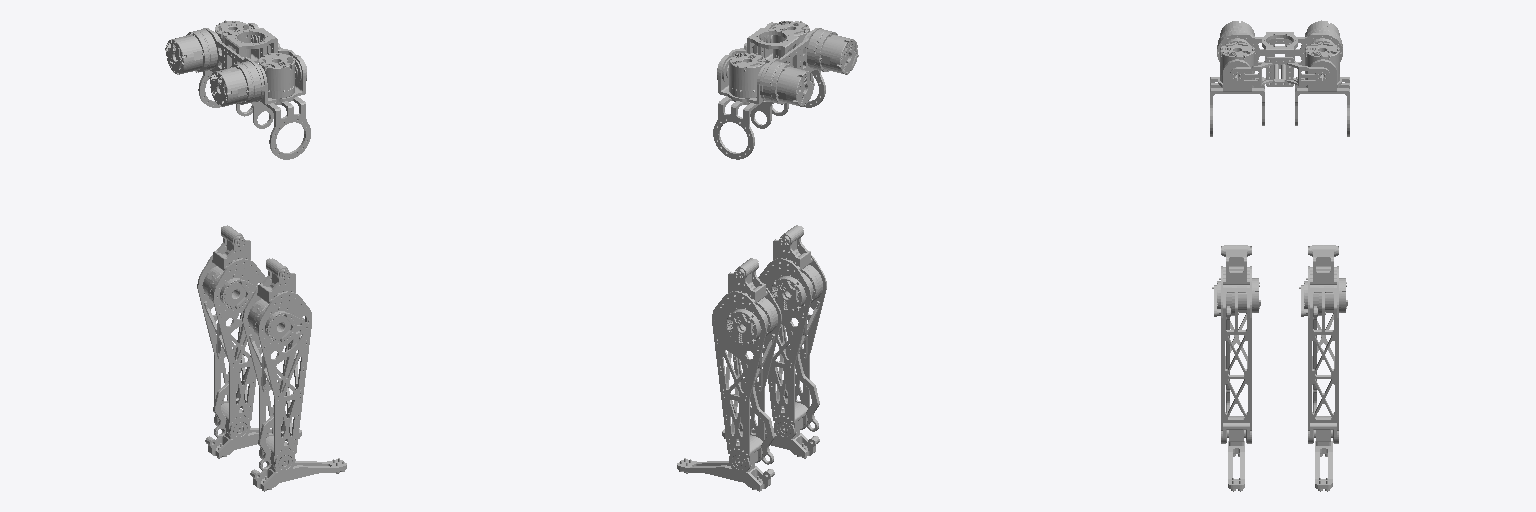
URDF robot description (bip4_des):
<?xml version="1.0" encoding="utf-8"?>
<!-- This URDF was automatically created by SolidWorks to URDF Exporter! Originally created by [author] ([email redacted]) 
     Commit Version: 1.6.0-4-g7f85cfe  Build Version: 1.6.7995.38578
     For more information, please see http://wiki.ros.org/sw_urdf_exporter -->
<robot
  name="bip4_des">
  <mujoco>
    <compiler
        meshdir="meshes/"
        balanceinertia="true"
        discardvisual="false" />
  </mujoco>
  <link
    name="base_link">
    <inertial>
      <origin
        xyz="-0.066232 0.00036919 2.7147E-06"
        rpy="0 0 0" />
      <mass
        value="5.5946" />
      <inertia
        ixx="0.0047064"
        ixy="-1.6682E-05"
        ixz="1.0516E-06"
        iyy="0.0053372"
        iyz="-3.4671E-06"
        izz="0.0046558" />
    </inertial>
    <visual>
      <origin
        xyz="0 0 0"
        rpy="0 0 0" />
      <geometry>
        <mesh
          filename="package://bip4_des/meshes/base_link.STL" />
      </geometry>
      <material
        name="">
        <color
          rgba="0.75294 0.75294 0.75294 1" />
      </material>
    </visual>
    <collision>
      <origin
        xyz="0 0 0"
        rpy="0 0 0" />
      <geometry>
        <mesh
          filename="package://bip4_des/meshes/base_link.STL" />
      </geometry>
    </collision>
  </link>
  <link
    name="l_hip_roll_Link">
    <inertial>
      <origin
        xyz="0.007702 8.0599E-05 -0.0041394"
        rpy="0 0 0" />
      <mass
        value="1.8362" />
      <inertia
        ixx="0.0013515"
        ixy="-1.3161E-06"
        ixz="7.5975E-07"
        iyy="0.0014774"
        iyz="-6.5562E-06"
        izz="0.0013748" />
    </inertial>
    <visual>
      <origin
        xyz="0 0 0"
        rpy="0 0 0" />
      <geometry>
        <mesh
          filename="package://bip4_des/meshes/l_hip_roll_Link.STL" />
      </geometry>
      <material
        name="">
        <color
          rgba="0.75294 0.75294 0.75294 1" />
      </material>
    </visual>
    <collision>
      <origin
        xyz="0 0 0"
        rpy="0 0 0" />
      <geometry>
        <mesh
          filename="package://bip4_des/meshes/l_hip_roll_Link.STL" />
      </geometry>
    </collision>
  </link>
  <joint
    name="J_hip_l_roll"
    type="revolute">
    <origin
      xyz="0 0.085 0"
      rpy="0 0 0" />
    <parent
      link="base_link" />
    <child
      link="l_hip_roll_Link" />
    <axis
      xyz="1 0 0" />
    <limit
      lower="-0.05"
      upper="1.0"
      effort="0"
      velocity="0" />
  </joint>
  <link
    name="l_hip_yaw_Link">
    <inertial>
      <origin
        xyz="-4.3368E-18 0.0047249 -0.032157"
        rpy="0 0 0" />
      <mass
        value="0.18597" />
      <inertia
        ixx="0.00054536"
        ixy="2.2098E-19"
        ixz="-1.2488E-19"
        iyy="0.00028776"
        iyz="5.5703E-05"
        izz="0.00045609" />
    </inertial>
    <visual>
      <origin
        xyz="0 0 0"
        rpy="0 0 0" />
      <geometry>
        <mesh
          filename="package://bip4_des/meshes/l_hip_yaw_Link.STL" />
      </geometry>
      <material
        name="">
        <color
          rgba="0.75294 0.75294 0.75294 1" />
      </material>
    </visual>
    <collision>
      <origin
        xyz="0 0 0"
        rpy="0 0 0" />
      <geometry>
        <mesh
          filename="package://bip4_des/meshes/l_hip_yaw_Link.STL" />
      </geometry>
    </collision>
  </link>
  <joint
    name="J_hip_l_yaw"
    type="revolute">
    <origin
      xyz="0.00755 0 -0.041"
      rpy="0 0 0" />
    <parent
      link="l_hip_roll_Link" />
    <child
      link="l_hip_yaw_Link" />
    <axis
      xyz="0 0 1" />
    <limit
      lower="-0.8"
      upper="0.8"
      effort="0"
      velocity="0" />
  </joint>
  <link
    name="l_hip_pitch_Link">
    <inertial>
      <origin
        xyz="0.00016671 0.0072394 -0.066453"
        rpy="0 0 0" />
      <mass
        value="10.605" />
      <inertia
        ixx="0.013974"
        ixy="-4.6354E-06"
        ixz="3.5128E-06"
        iyy="0.017107"
        iyz="-4.3453E-06"
        izz="0.011931" />
    </inertial>
    <visual>
      <origin
        xyz="0 0 0"
        rpy="0 0 0" />
      <geometry>
        <mesh
          filename="package://bip4_des/meshes/l_hip_pitch_Link.STL" />
      </geometry>
      <material
        name="">
        <color
          rgba="0.75294 0.75294 0.75294 1" />
      </material>
    </visual>
    <collision>
      <origin
        xyz="0 0 0"
        rpy="0 0 0" />
      <geometry>
        <mesh
          filename="package://bip4_des/meshes/l_hip_pitch_Link.STL" />
      </geometry>
    </collision>
  </link>
  <joint
    name="J_hip_l_pitch"
    type="revolute">
    <origin
      xyz="0 0 -0.071"
      rpy="0 0 0" />
    <parent
      link="l_hip_yaw_Link" />
    <child
      link="l_hip_pitch_Link" />
    <axis
      xyz="0 1 0" />
    <limit
      lower="-1.5"
      upper="1.5"
      effort="0"
      velocity="0" />
  </joint>
  <link
    name="l_knee_Link">
    <inertial>
      <origin
        xyz="-0.0080643 0.0026112 -0.13064"
        rpy="0 0 0" />
      <mass
        value="3.4252" />
      <inertia
        ixx="0.0068071"
        ixy="4.0329E-06"
        ixz="-0.00032143"
        iyy="0.0067824"
        iyz="6.7283E-06"
        izz="0.0025764" />
    </inertial>
    <visual>
      <origin
        xyz="0 0 0"
        rpy="0 0 0" />
      <geometry>
        <mesh
          filename="package://bip4_des/meshes/l_knee_Link.STL" />
      </geometry>
      <material
        name="">
        <color
          rgba="0.75294 0.75294 0.75294 1" />
      </material>
    </visual>
    <collision>
      <origin
        xyz="0 0 0"
        rpy="0 0 0" />
      <geometry>
        <mesh
          filename="package://bip4_des/meshes/l_knee_Link.STL" />
      </geometry>
    </collision>
  </link>
  <joint
    name="J_knee_l_pitch"
    type="revolute">
    <origin
      xyz="0 0 -0.3"
      rpy="0 0 0" />
    <parent
      link="l_hip_pitch_Link" />
    <child
      link="l_knee_Link" />
    <axis
      xyz="0 1 0" />
    <limit
      lower="-0.1"
      upper="1.7"
      effort="0"
      velocity="0" />
  </joint>
  <link
    name="l_ankle_Link">
    <inertial>
      <origin
        xyz="0.025627 0.002347 -0.031389"
        rpy="0 0 0" />
      <mass
        value="0.3255" />
      <inertia
        ixx="7.343E-05"
        ixy="-1.3319E-06"
        ixz="4.7624E-05"
        iyy="0.00067827"
        iyz="1.9233E-07"
        izz="0.00069239" />
    </inertial>
    <visual>
      <origin
        xyz="0 0 0"
        rpy="0 0 0" />
      <geometry>
        <mesh
          filename="package://bip4_des/meshes/l_ankle_Link.STL" />
      </geometry>
      <material
        name="">
        <color
          rgba="0.75294 0.75294 0.75294 1" />
      </material>
    </visual>
    <collision>
      <origin
        xyz="0 0 0"
        rpy="0 0 0" />
      <geometry>
        <mesh
          filename="package://bip4_des/meshes/l_ankle_Link.STL" />
      </geometry>
    </collision>
  </link>
  <joint
    name="J_ankle_l_pitch"
    type="revolute">
    <origin
      xyz="0 0 -0.4"
      rpy="0 0 0" />
    <parent
      link="l_knee_Link" />
    <child
      link="l_ankle_Link" />
    <axis
      xyz="0 1 0" />
    <limit
      lower="-0.6"
      upper="0.6"
      effort="0"
      velocity="0" />
  </joint>
  <link
    name="r_hip_roll_Link">
    <inertial>
      <origin
        xyz="0.007702 8.0599E-05 -0.0041394"
        rpy="0 0 0" />
      <mass
        value="1.8362" />
      <inertia
        ixx="0.0013515"
        ixy="-1.3161E-06"
        ixz="7.5975E-07"
        iyy="0.0014774"
        iyz="-6.5562E-06"
        izz="0.0013748" />
    </inertial>
    <visual>
      <origin
        xyz="0 0 0"
        rpy="0 0 0" />
      <geometry>
        <mesh
          filename="package://bip4_des/meshes/r_hip_roll_Link.STL" />
      </geometry>
      <material
        name="">
        <color
          rgba="0.75294 0.75294 0.75294 1" />
      </material>
    </visual>
    <collision>
      <origin
        xyz="0 0 0"
        rpy="0 0 0" />
      <geometry>
        <mesh
          filename="package://bip4_des/meshes/r_hip_roll_Link.STL" />
      </geometry>
    </collision>
  </link>
  <joint
    name="J_hip_r_roll"
    type="revolute">
    <origin
      xyz="0 -0.085 0"
      rpy="0 0 0" />
    <parent
      link="base_link" />
    <child
      link="r_hip_roll_Link" />
    <axis
      xyz="1 0 0" />
    <limit
      lower="-1.0"
      upper="0.05"
      effort="0"
      velocity="0" />
  </joint>
  <link
    name="r_hip_yaw_Link">
    <inertial>
      <origin
        xyz="2.6888E-17 -0.0047249 -0.032157"
        rpy="0 0 0" />
      <mass
        value="0.18597" />
      <inertia
        ixx="0.00054536"
        ixy="1.1784E-19"
        ixz="1.7991E-21"
        iyy="0.00028776"
        iyz="-5.5703E-05"
        izz="0.00045609" />
    </inertial>
    <visual>
      <origin
        xyz="0 0 0"
        rpy="0 0 0" />
      <geometry>
        <mesh
          filename="package://bip4_des/meshes/r_hip_yaw_Link.STL" />
      </geometry>
      <material
        name="">
        <color
          rgba="0.75294 0.75294 0.75294 1" />
      </material>
    </visual>
    <collision>
      <origin
        xyz="0 0 0"
        rpy="0 0 0" />
      <geometry>
        <mesh
          filename="package://bip4_des/meshes/r_hip_yaw_Link.STL" />
      </geometry>
    </collision>
  </link>
  <joint
    name="J_hip_r_yaw"
    type="revolute">
    <origin
      xyz="0.00755 0 -0.041"
      rpy="0 0 0" />
    <parent
      link="r_hip_roll_Link" />
    <child
      link="r_hip_yaw_Link" />
    <axis
      xyz="0 0 1" />
    <limit
      lower="-0.8"
      upper="0.8"
      effort="0"
      velocity="0" />
  </joint>
  <link
    name="r_hip_pitch_Link">
    <inertial>
      <origin
        xyz="0.00017061 -0.0072483 -0.066599"
        rpy="0 0 0" />
      <mass
        value="10.607" />
      <inertia
        ixx="0.013994"
        ixy="-3.0476E-06"
        ixz="1.7407E-05"
        iyy="0.017107"
        iyz="-3.6747E-06"
        izz="0.011911" />
    </inertial>
    <visual>
      <origin
        xyz="0 0 0"
        rpy="0 0 0" />
      <geometry>
        <mesh
          filename="package://bip4_des/meshes/r_hip_pitch_Link.STL" />
      </geometry>
      <material
        name="">
        <color
          rgba="0.75294 0.75294 0.75294 1" />
      </material>
    </visual>
    <collision>
      <origin
        xyz="0 0 0"
        rpy="0 0 0" />
      <geometry>
        <mesh
          filename="package://bip4_des/meshes/r_hip_pitch_Link.STL" />
      </geometry>
    </collision>
  </link>
  <joint
    name="J_hip_r_pitch"
    type="revolute">
    <origin
      xyz="0 0 -0.071"
      rpy="0 0 0" />
    <parent
      link="r_hip_yaw_Link" />
    <child
      link="r_hip_pitch_Link" />
    <axis
      xyz="0 1 0" />
    <limit
      lower="-1.5"
      upper="1.5"
      effort="0"
      velocity="0" />
  </joint>
  <link
    name="r_knee_Link">
    <inertial>
      <origin
        xyz="-0.0080643 -0.0011888 -0.13064"
        rpy="0 0 0" />
      <mass
        value="3.4252" />
      <inertia
        ixx="0.0068071"
        ixy="4.0329E-06"
        ixz="-0.00032143"
        iyy="0.0067824"
        iyz="6.7283E-06"
        izz="0.0025764" />
    </inertial>
    <visual>
      <origin
        xyz="0 0 0"
        rpy="0 0 0" />
      <geometry>
        <mesh
          filename="package://bip4_des/meshes/r_knee_Link.STL" />
      </geometry>
      <material
        name="">
        <color
          rgba="0.75294 0.75294 0.75294 1" />
      </material>
    </visual>
    <collision>
      <origin
        xyz="0 0 0"
        rpy="0 0 0" />
      <geometry>
        <mesh
          filename="package://bip4_des/meshes/r_knee_Link.STL" />
      </geometry>
    </collision>
  </link>
  <joint
    name="J_knee_r_pitch"
    type="revolute">
    <origin
      xyz="0 0 -0.3"
      rpy="0 0 0" />
    <parent
      link="r_hip_pitch_Link" />
    <child
      link="r_knee_Link" />
    <axis
      xyz="0 1 0" />
    <limit
      lower="-0.1"
      upper="1.7"
      effort="0"
      velocity="0" />
  </joint>
  <link
    name="r_ankle_Link">
    <inertial>
      <origin
        xyz="0.025627 -0.001453 -0.031389"
        rpy="0 0 0" />
      <mass
        value="0.3255" />
      <inertia
        ixx="7.343E-05"
        ixy="-1.3319E-06"
        ixz="4.7624E-05"
        iyy="0.00067827"
        iyz="1.9233E-07"
        izz="0.00069239" />
    </inertial>
    <visual>
      <origin
        xyz="0 0 0"
        rpy="0 0 0" />
      <geometry>
        <mesh
          filename="package://bip4_des/meshes/r_ankle_Link.STL" />
      </geometry>
      <material
        name="">
        <color
          rgba="0.75294 0.75294 0.75294 1" />
      </material>
    </visual>
    <collision>
      <origin
        xyz="0 0 0"
        rpy="0 0 0" />
      <geometry>
        <mesh
          filename="package://bip4_des/meshes/r_ankle_Link.STL" />
      </geometry>
    </collision>
  </link>
  <joint
    name="J_ankle_r_pitch"
    type="revolute">
    <origin
      xyz="0 0 -0.4"
      rpy="0 0 0" />
    <parent
      link="r_knee_Link" />
    <child
      link="r_ankle_Link" />
    <axis
      xyz="0 1 0" />
    <limit
      lower="-0.6"
      upper="0.6"
      effort="0"
      velocity="0" />
  </joint>
  <link
    name="body_Link">
    <inertial>
      <origin
        xyz="-0.020522 5.744E-05 0.13547"
        rpy="0 0 0" />
      <mass
        value="13.408" />
      <inertia
        ixx="0.061764"
        ixy="3.1044E-07"
        ixz="-3.4396E-05"
        iyy="0.045091"
        iyz="-5.3047E-06"
        izz="0.032291" />
    </inertial>
    <visual>
      <origin
        xyz="0 0 0"
        rpy="0 0 0" />
      <geometry>
        <mesh
          filename="package://bip4_des/meshes/body_Link.STL" />
      </geometry>
      <material
        name="">
        <color
          rgba="0.75294 0.75294 0.75294 1" />
      </material>
    </visual>
    <collision>
      <origin
        xyz="0 0 0"
        rpy="0 0 0" />
      <geometry>
        <mesh
          filename="package://bip4_des/meshes/body_Link.STL" />
      </geometry>
    </collision>
  </link>
  <joint
    name="J_waist_yaw"
    type="revolute">
    <origin
      xyz="0 0 0.048"
      rpy="0 0 0" />
    <parent
      link="base_link" />
    <child
      link="body_Link" />
    <axis
      xyz="0 0 1" />
    <limit
      lower="-1.57"
      upper="1.57"
      effort="0"
      velocity="0" />
  </joint>  
</robot>

--- Render facts (derived) ---
3 views of the same robot in one strip: view 1: azimuth 30°, elevation 25°; view 2: azimuth 150°, elevation 25°; view 3: azimuth 270°, elevation 25° (orthographic).
Model bip4_des with 12 links and 11 joints (11 revolute), rooted at base_link, posed every joint at zero.
Links seen in each view (by area): view 1: r_knee_Link, l_knee_Link, base_link, r_hip_roll_Link, r_hip_yaw_Link, r_ankle_Link, l_ankle_Link, l_hip_roll_Link; view 2: l_knee_Link, r_knee_Link, base_link, l_hip_roll_Link, l_hip_yaw_Link, l_ankle_Link, r_ankle_Link, r_hip_roll_Link; view 3: l_knee_Link, r_knee_Link, base_link, l_hip_roll_Link, r_hip_roll_Link, l_ankle_Link, r_ankle_Link, l_hip_yaw_Link, r_hip_yaw_Link.
Boxes of the visible links, <box> form: r_knee_Link: <box>242,258,311,472</box>; l_knee_Link: <box>197,225,265,440</box>; base_link: <box>165,26,306,106</box>; r_hip_roll_Link: <box>256,53,306,104</box>; r_hip_yaw_Link: <box>251,96,310,159</box>; r_ankle_Link: <box>250,454,346,491</box>; l_ankle_Link: <box>205,421,301,458</box>; l_hip_roll_Link: <box>213,20,259,66</box>; l_knee_Link: <box>712,258,781,472</box>; r_knee_Link: <box>758,225,826,439</box>; base_link: <box>717,26,858,106</box>; l_hip_roll_Link: <box>717,53,767,103</box>; l_hip_yaw_Link: <box>713,96,773,159</box>; l_ankle_Link: <box>677,451,774,491</box>; r_ankle_Link: <box>722,418,819,458</box>; r_hip_roll_Link: <box>764,21,810,65</box>; l_knee_Link: <box>1299,245,1347,443</box>; r_knee_Link: <box>1212,245,1260,443</box>; base_link: <box>1217,20,1342,86</box>; l_hip_roll_Link: <box>1304,40,1341,91</box>; r_hip_roll_Link: <box>1218,40,1255,91</box>; l_ankle_Link: <box>1314,430,1332,491</box>; r_ankle_Link: <box>1227,430,1245,491</box>; l_hip_yaw_Link: <box>1295,77,1349,136</box>; r_hip_yaw_Link: <box>1210,77,1264,136</box>.
Size in the robot's own frame: 0.2826 by 0.28 by 0.922 metres.
Meshes: 12 distinct files referenced, 9 mesh visuals loaded (9 binary STL); not drawn: 3 (reference not matched to a file when rendering).
